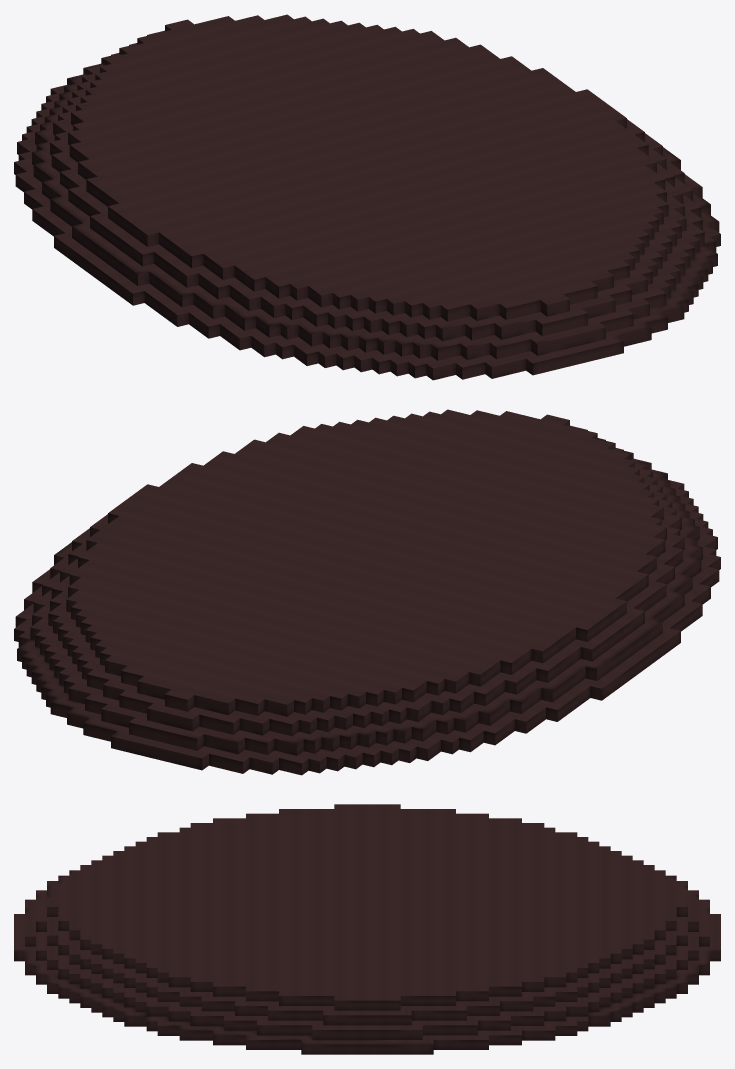
Rendered from Base_Wood_1.obj.
The picture shows the model from 3 angles, top to bottom: view 1: azimuth 30°, elevation 25°; view 2: azimuth 150°, elevation 25°; view 3: azimuth 270°, elevation 25°; orthographic projection. The views are drawn at different scales.
Visible parts, largest first — view 1: Base_Default1; view 2: Base_Default1; view 3: Base_Default1.
Boxes of the visible parts, x1,y1,x2,y2 form: Base_Default1: (14,14,720,380); Base_Default1: (14,409,720,775); Base_Default1: (14,804,720,1054).
Bounding box in the file's own units: 48 × 4 × 64.
